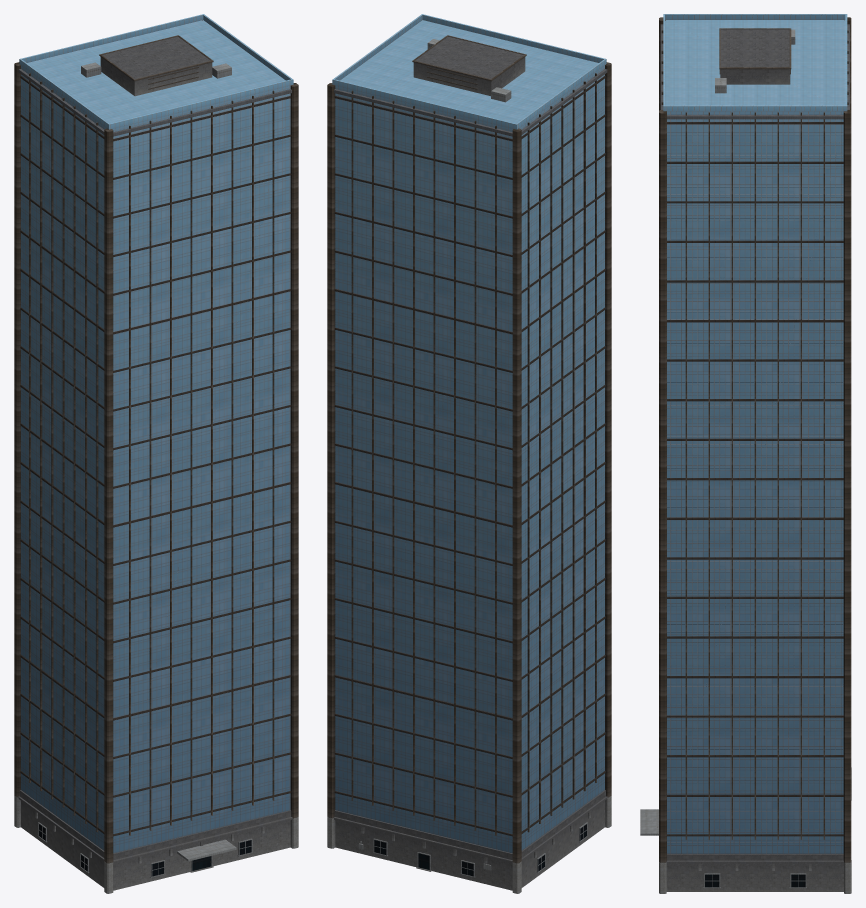
The model's file is woodward-plaza-tower_lod0.gltf.
The picture shows the model from 3 angles, left to right: view 1: azimuth 30°, elevation 25°; view 2: azimuth 150°, elevation 25°; view 3: azimuth 270°, elevation 25°; orthographic projection. The views are drawn at different scales.
Parts seen in each view (by area): view 1: woodward-plaza-tower_upper, woodward-plaza-tower__v4_metal_detail, woodward-plaza-tower__v4_stone_detail, woodward-plaza-tower_base, woodward-plaza-tower__cornice, woodward-plaza-tower__parapet_front, woodward-plaza-tower__parapet_back, woodward-plaza-tower_fen_07-glass-curtain-blue_1_t, woodward-plaza-tower__canopy, woodward-plaza-tower__parapet_left, woodward-plaza-tower__parapet_right; view 2: woodward-plaza-tower_upper, woodward-plaza-tower__v4_metal_detail, woodward-plaza-tower__v4_stone_detail, woodward-plaza-tower_base, woodward-plaza-tower__cornice, woodward-plaza-tower__parapet_back, woodward-plaza-tower__parapet_front, woodward-plaza-tower_fen_07-glass-curtain-blue_1_t, woodward-plaza-tower__parapet_left, woodward-plaza-tower__parapet_right, woodward-plaza-tower_fen_14-steel-panel_0; view 3: woodward-plaza-tower_upper, woodward-plaza-tower__v4_metal_detail, woodward-plaza-tower__v4_stone_detail, woodward-plaza-tower_base, woodward-plaza-tower__cornice, woodward-plaza-tower__parapet_right, woodward-plaza-tower__parapet_left, woodward-plaza-tower__canopy.
Part boxes in pixels (x1,y1,x2,y2): woodward-plaza-tower_upper: (21,20,290,853); woodward-plaza-tower__v4_metal_detail: (14,20,298,863); woodward-plaza-tower__v4_stone_detail: (14,36,298,893); woodward-plaza-tower_base: (21,801,290,890); woodward-plaza-tower__cornice: (18,69,291,136); woodward-plaza-tower__parapet_front: (108,79,293,129); woodward-plaza-tower__parapet_back: (19,14,204,64); woodward-plaza-tower_fen_07-glass-curtain-blue_1_t: (39,824,251,876); woodward-plaza-tower__canopy: (177,839,236,861); woodward-plaza-tower__parapet_left: (20,59,108,128); woodward-plaza-tower__parapet_right: (203,14,291,80); woodward-plaza-tower_upper: (335,20,604,853); woodward-plaza-tower__v4_metal_detail: (327,35,611,863); woodward-plaza-tower__v4_stone_detail: (327,36,611,893); woodward-plaza-tower_base: (335,801,604,890); woodward-plaza-tower__cornice: (334,69,607,136); woodward-plaza-tower__parapet_back: (332,79,517,129); woodward-plaza-tower__parapet_front: (421,14,606,64); woodward-plaza-tower_fen_07-glass-curtain-blue_1_t: (374,824,586,876); woodward-plaza-tower__parapet_left: (517,59,605,128); woodward-plaza-tower__parapet_right: (334,14,422,80); woodward-plaza-tower_fen_14-steel-panel_0: (358,822,587,877); woodward-plaza-tower_upper: (665,20,845,853); woodward-plaza-tower__v4_metal_detail: (659,17,851,862); woodward-plaza-tower__v4_stone_detail: (659,29,851,893); woodward-plaza-tower_base: (666,864,843,891); woodward-plaza-tower__cornice: (660,24,849,119); woodward-plaza-tower__parapet_right: (665,105,845,111); woodward-plaza-tower__parapet_left: (665,14,845,19); woodward-plaza-tower__canopy: (640,809,658,835).
Size of the model in its own units: 39.52 by 153 by 36.76.
